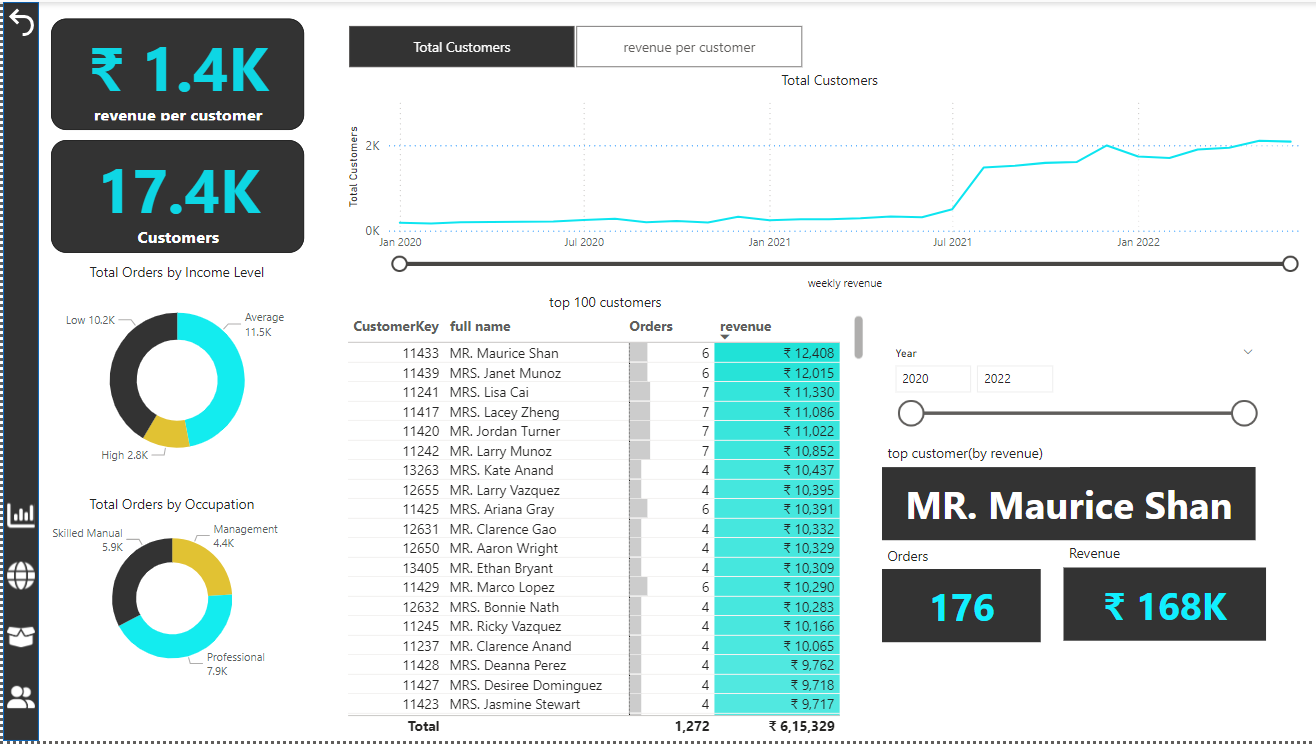

The dashboard page shown, as its layout file describes it:
{"tool":"powerbi","page":{"name":"Customer Detail Page","canvas":[1280,720],"ordinal":3},"visuals":[{"type":"shape","box":[0,0,35,720],"z":0},{"type":"actionButton","box":[0,539.7,35.1,39.5],"z":0,"group":"g1"},{"type":"card","fields":{"Values":["Measure Table.Total Customers"]},"box":[46.5,134.9,246.6,110.1],"z":1000},{"type":"actionButton","box":[0,598.7,35.1,39.5],"z":1000,"group":"g1"},{"type":"card","fields":{"Values":["Measure Table.average revenue per customer"]},"box":[46.5,15.5,246.6,108.6],"z":2000},{"type":"actionButton","box":[0,480.8,35.1,39.5],"z":2000,"group":"g1"},{"type":"stackedAreaChart","fields":{"Y":["Measure Table.Total Customers"],"Category":["Calendar Lookup.date hierarchy.Start of Year","Calendar Lookup.date hierarchy.Start of Month","Calendar Lookup.date hierarchy.Date","Calendar Lookup.date hierarchy.Start of Week"]},"box":[330.3,65.8,950,216.3],"z":3000},{"type":"actionButton","box":[0,657.6,35.1,39.5],"z":3000,"group":"g1"},{"type":"donutChart","fields":{"Y":["Measure Table.Total Orders"],"Series":["Customer Lookup.Income Level"]},"box":[45,252.8,248.1,212.5],"z":4000},{"type":"donutChart","fields":{"Y":["Measure Table.Total Orders"],"Series":["Customer Lookup.Occupation"]},"box":[37.2,479.2,255.9,184.6],"z":5000},{"type":"tableEx","title":"top 100 customers","fields":{"Values":["Sales Data.CustomerKey","Customer Lookup.full name","Measure Table.Total Orders","Measure Table.total revenue"]},"box":[330.3,282.1,513,437],"z":6000},{"type":"card","fields":{"Values":["Min(Customer Lookup.full name)"]},"box":[856.4,452.5,363.9,71.6],"z":7000},{"type":"card","fields":{"Values":["Measure Table.total revenue"]},"box":[1033.3,550.4,197.3,71.6],"z":8000},{"type":"card","fields":{"Values":["Measure Table.Total Orders"]},"box":[856.4,551.9,154.9,71.6],"z":9000},{"type":"textbox","box":[856.4,423.3,182.7,29.2],"z":10000},{"type":"textbox","box":[856.4,524.1,154.9,33.6],"z":11000},{"type":"textbox","box":[1033.3,521.2,153.5,43.8],"z":12000},{"type":"slicer","fields":{"Values":["Calendar Lookup.Date.Variation.Date Hierarchy.Year"]},"box":[856.4,329.8,374.1,95],"z":13000},{"type":"actionButton","box":[0,0,36.5,39.5],"z":14000},{"type":"group","id":"g1","title":"Navigation button","box":[0,480.8,35.1,216.3],"z":15000},{"type":"slicer","fields":{"Values":["Customer matric.Customer matric"]},"box":[311.3,16.1,491.1,54.1],"z":16000}]}

Visuals, with their boxes on the page's 1280x720 design canvas (x1, y1, x2, y2). These are canvas units, not pixel positions in the 1316x745 screenshot, which may show the page scaled, cropped or inside an application window:
shape: [0, 0, 35, 720]
actionButton: [0, 540, 35, 579]
card - Measure Table.Total Customers: [46, 135, 293, 245]
actionButton: [0, 599, 35, 638]
card - Measure Table.average revenue per customer: [46, 16, 293, 124]
actionButton: [0, 481, 35, 520]
stackedAreaChart - Measure Table.Total Customers x Calendar Lookup.date hierarchy.Start of Year: [330, 66, 1280, 282]
actionButton: [0, 658, 35, 697]
donutChart - Measure Table.Total Orders x Customer Lookup.Income Level: [45, 253, 293, 465]
donutChart - Measure Table.Total Orders x Customer Lookup.Occupation: [37, 479, 293, 664]
"top 100 customers" tableEx: [330, 282, 843, 719]
card - Min(Customer Lookup.full name): [856, 452, 1220, 524]
card - Measure Table.total revenue: [1033, 550, 1231, 622]
card - Measure Table.Total Orders: [856, 552, 1011, 624]
textbox: [856, 423, 1039, 452]
textbox: [856, 524, 1011, 558]
textbox: [1033, 521, 1187, 565]
slicer - Calendar Lookup.Date.Variation.Date Hierarchy.Year: [856, 330, 1230, 425]
actionButton: [0, 0, 36, 40]
"Navigation button" group: [0, 481, 35, 697]
slicer - Customer matric.Customer matric: [311, 16, 802, 70]
